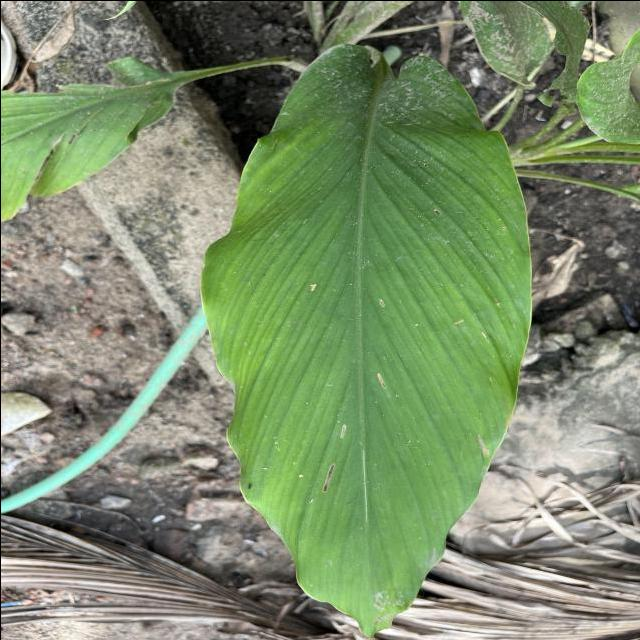Curcuma longa: (197, 39, 535, 638)
